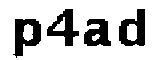4: (46, 7, 80, 50)
a: (83, 18, 110, 50)
d: (117, 6, 149, 49)
p: (9, 15, 44, 59)
